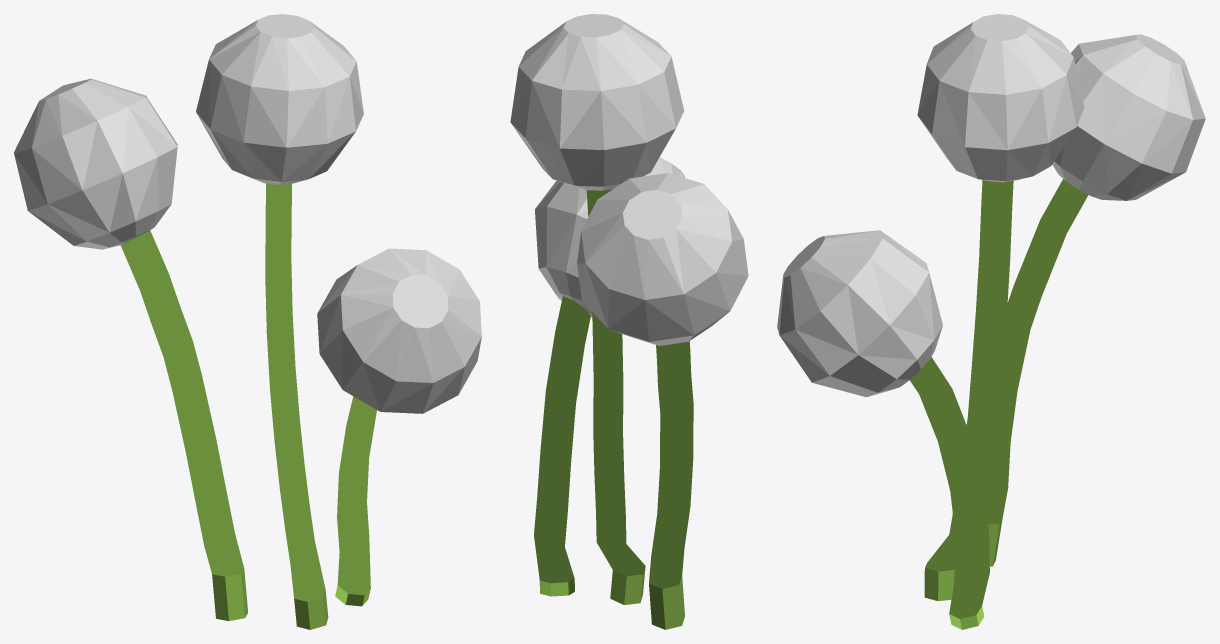
Rendered from dandelions.glb.
3 renders of one model, left to right at view 1: azimuth 30°, elevation 25°; view 2: azimuth 150°, elevation 25°; view 3: azimuth 270°, elevation 25°, orthographic. The views are drawn at different scales.
Visible parts, largest first — view 1: Node; view 2: Node; view 3: Node.
Part boxes in pixels (bbox=[...]): Node: bbox=[14, 14, 481, 629]; Node: bbox=[510, 14, 748, 629]; Node: bbox=[777, 14, 1205, 629].
Size of the model in its own units: 0.1057 by 0.1867 by 0.1259.
